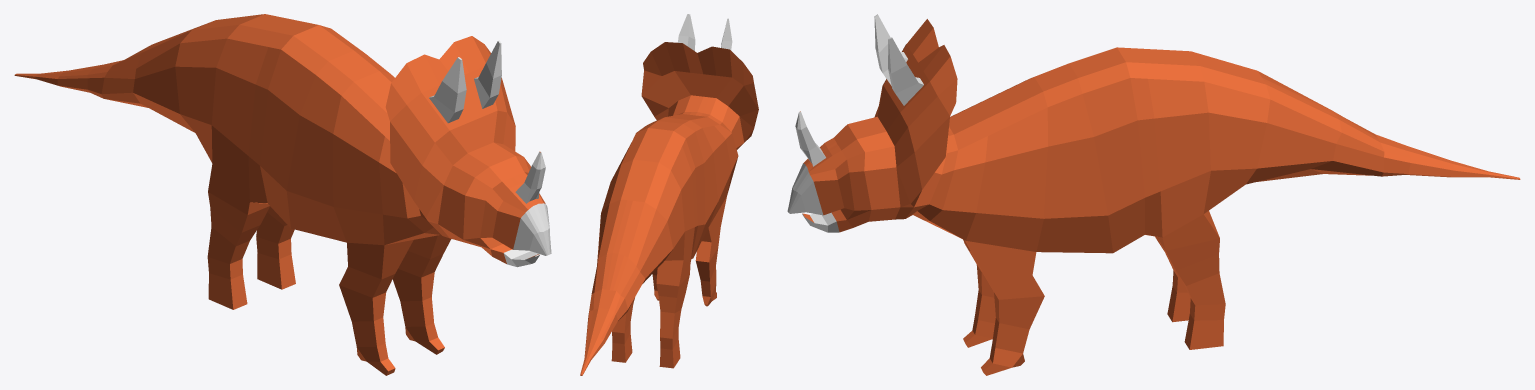
The model's file is pachyrhinosaurus.glb.
3 renders of one model, left to right at view 1: azimuth 30°, elevation 25°; view 2: azimuth 150°, elevation 25°; view 3: azimuth 270°, elevation 25°, orthographic. The views are drawn at different scales.
Visible parts, largest first — view 1: Plane; view 2: Plane; view 3: Plane.
Boxes of the visible parts, bbox=[...] form: Plane: bbox=[14, 14, 551, 375]; Plane: bbox=[580, 14, 758, 375]; Plane: bbox=[787, 14, 1520, 375].
Bounding box in the file's own units: 2.64 × 4.19 × 8.11.
